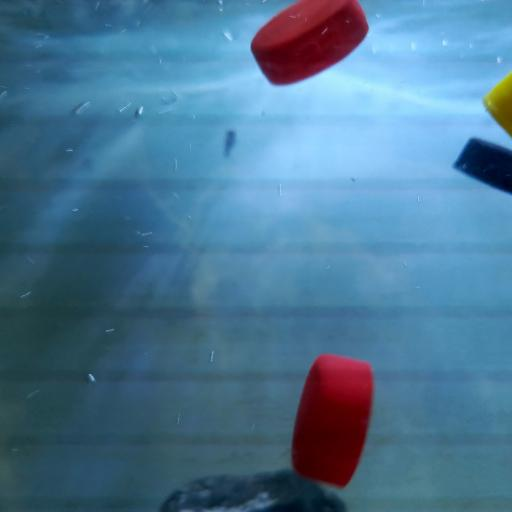bottle_cap: (289, 351, 374, 492), (252, 2, 370, 87), (453, 134, 512, 196), (481, 67, 512, 138)
